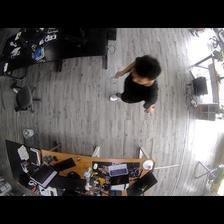normal: (108, 54, 163, 110)
